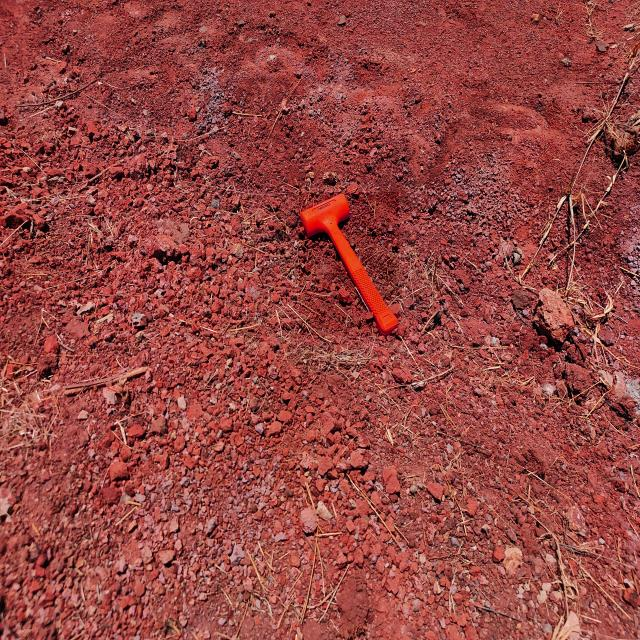Orange_hammer: (299, 192, 399, 336)
